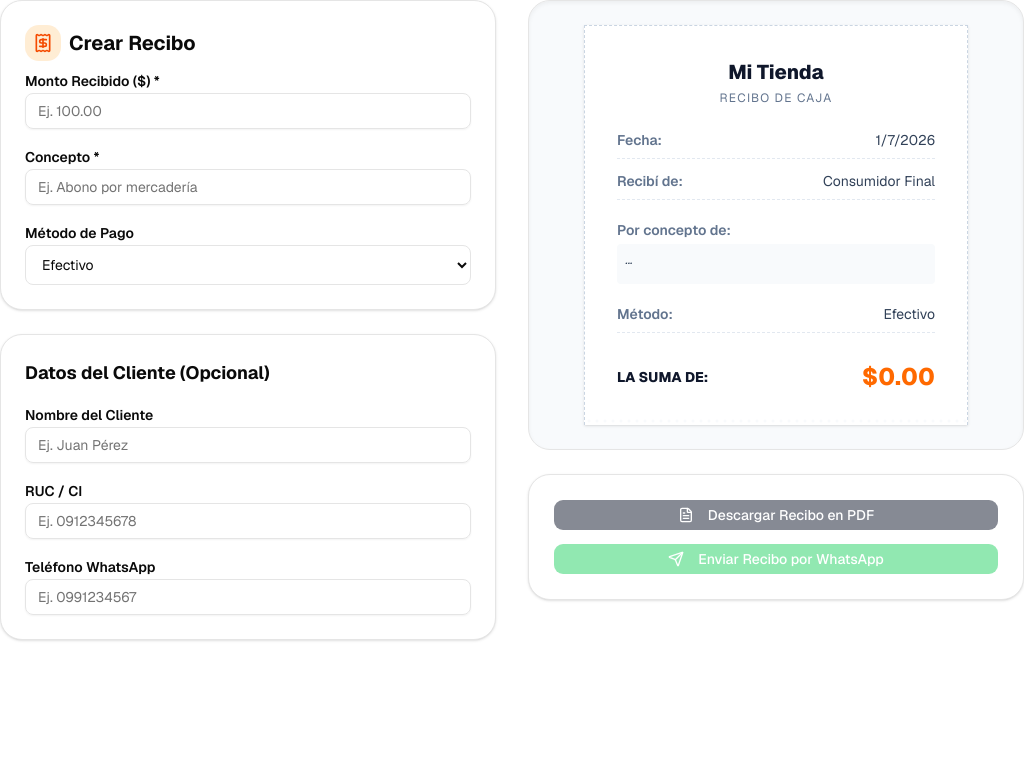
ReciberaClient › enables export when required fields are filled
The width and height of the screenshot is (1024, 768).
Check: the button with test id "download-pdf-btn" is disabled, box [553,499,999,531]
# Fill required fields
Type "100.50" into the number field labelled "Monto Recibido ($) *" at (248, 111), box [25,93,471,129]
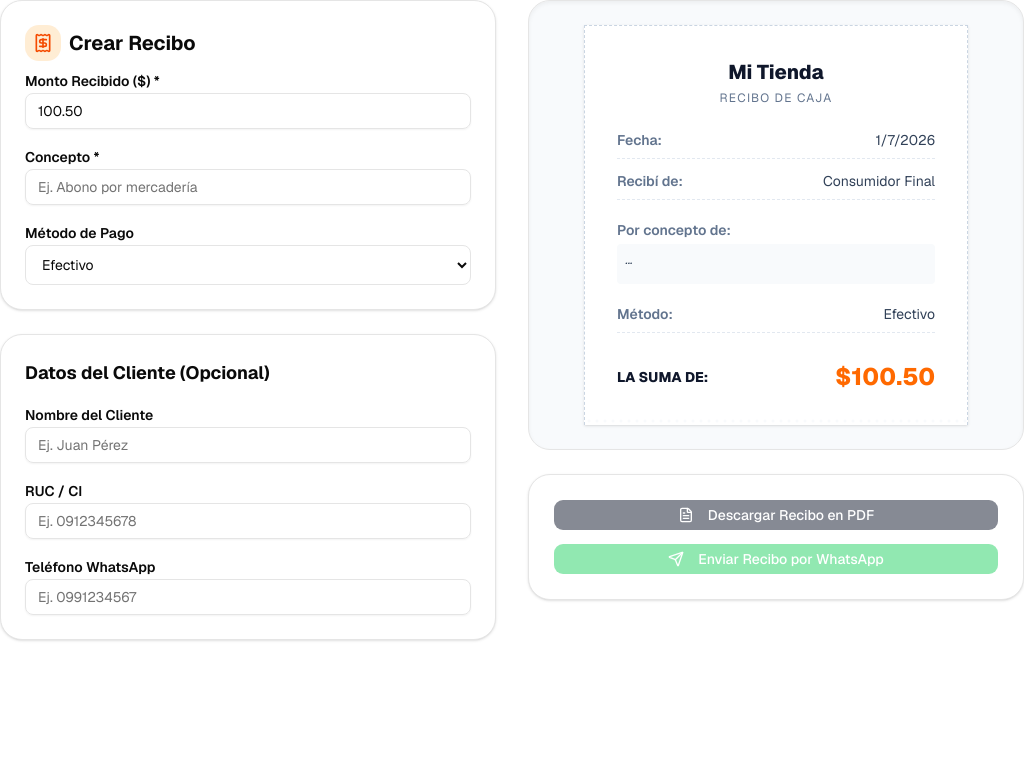
Type "Abono de mercadería" into the field labelled "Concepto *" at (248, 187), box [25,169,471,205]
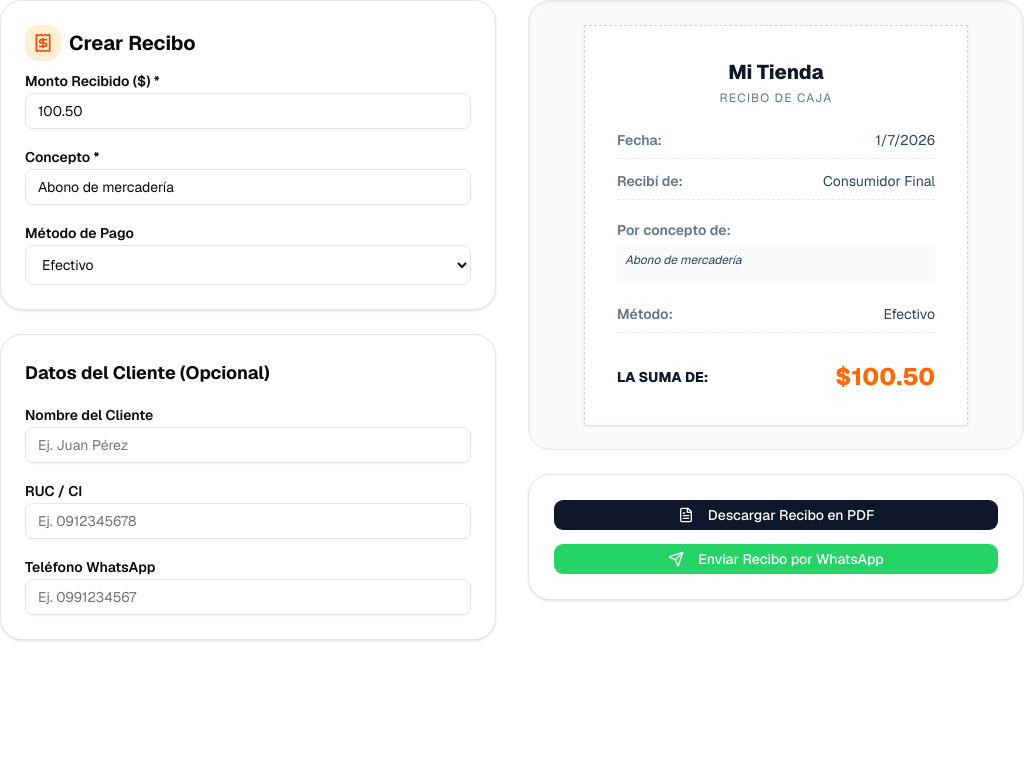
Check: the button with test id "download-pdf-btn" is enabled, box [553,499,999,531]
